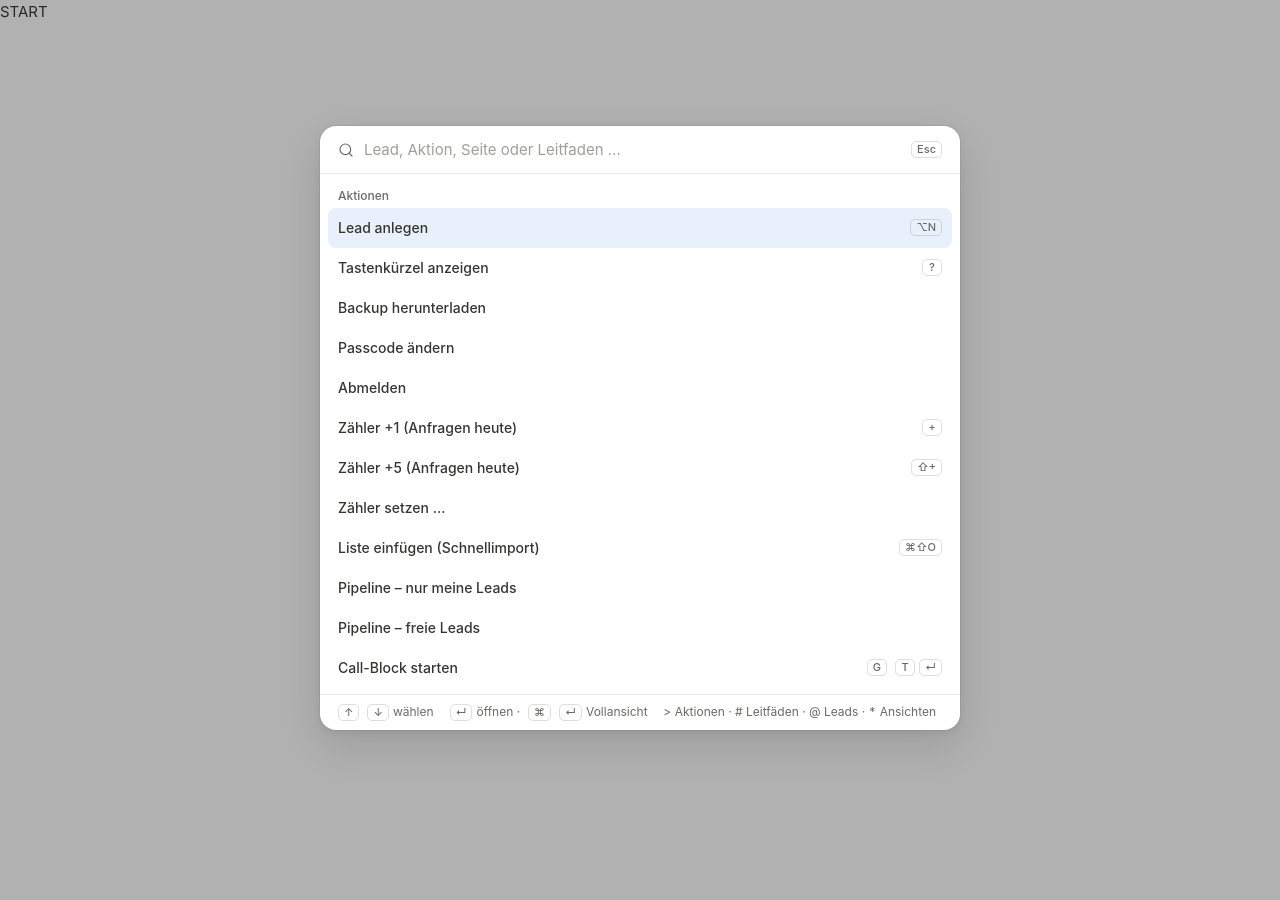
Test case: CommandPalette › filtert nach Text und Präfix >
The width and height of the screenshot is (1280, 900).
Type "pipe" into the dropdown with placeholder "Lead, Aktion, Seite oder Leitfaden …" at [633, 150], box [364, 138, 901, 161]
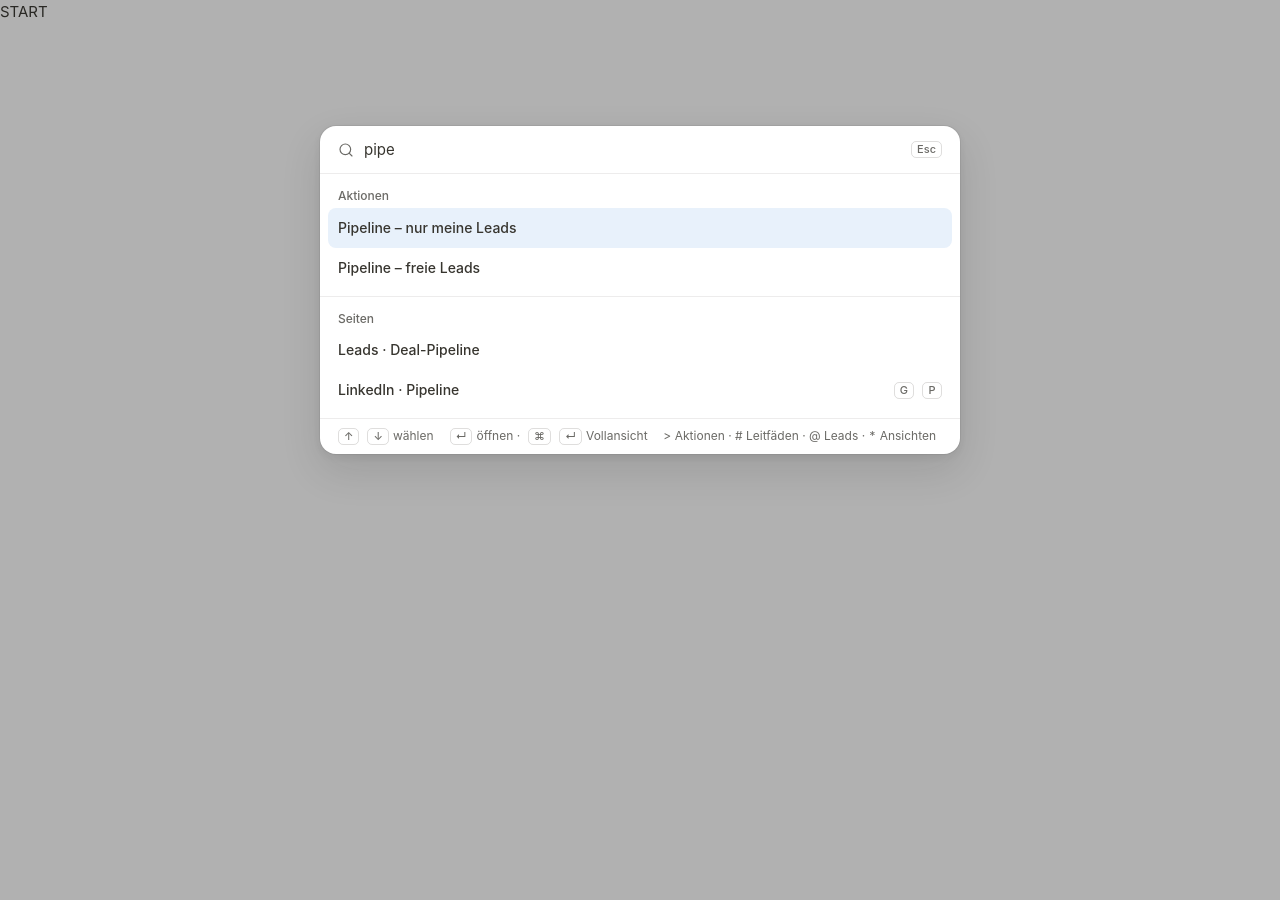
Expected: the text "LinkedIn · Pipeline" is shown, [338, 380, 459, 400]
Expected: the text "Leads · Deal-Pipeline" is shown, [338, 340, 480, 360]
Expected: the option "Lead anlegen" is gone
Replace the text in the dropdown with placeholder "Lead, Aktion, Seite oder Leitfaden …" with ">" at [633, 150], box [364, 138, 901, 161]
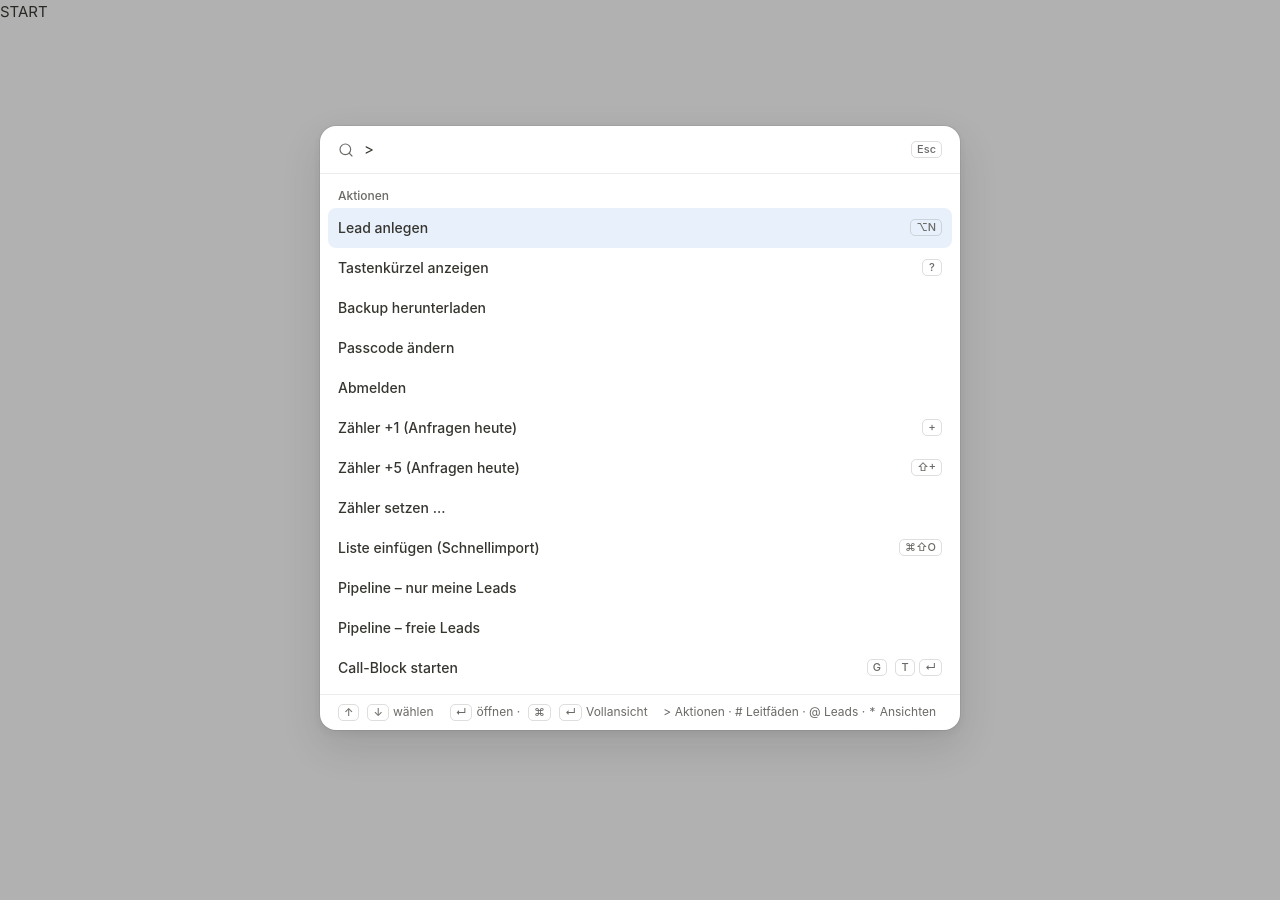
Expected: the text "Lead anlegen" is shown, [338, 218, 428, 237]
Expected: the text "Seiten" is gone
